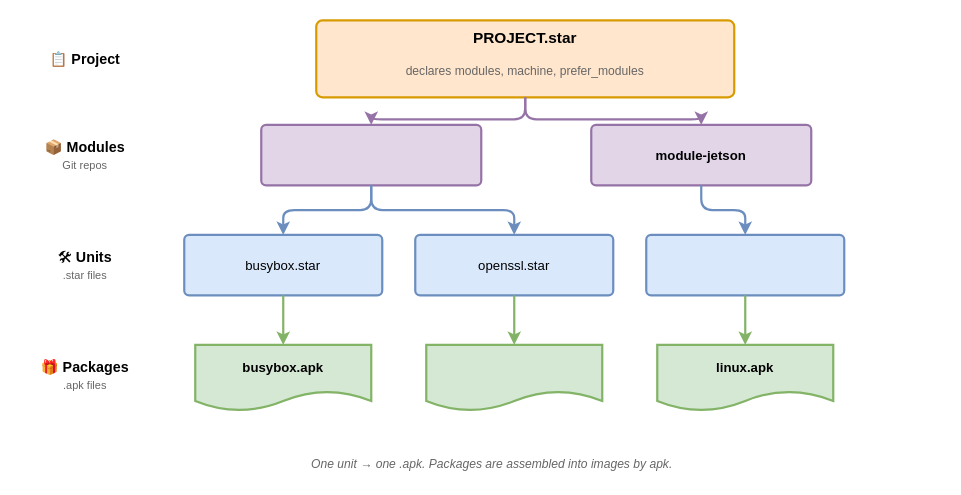
This 961x495 diagram has some shape labels left out. Each missing label, with the centre of its shape:
"linux.star" belongs at point 745,264.
"module-core" belongs at point 371,154.
"openssl.apk" belongs at point 514,377.
